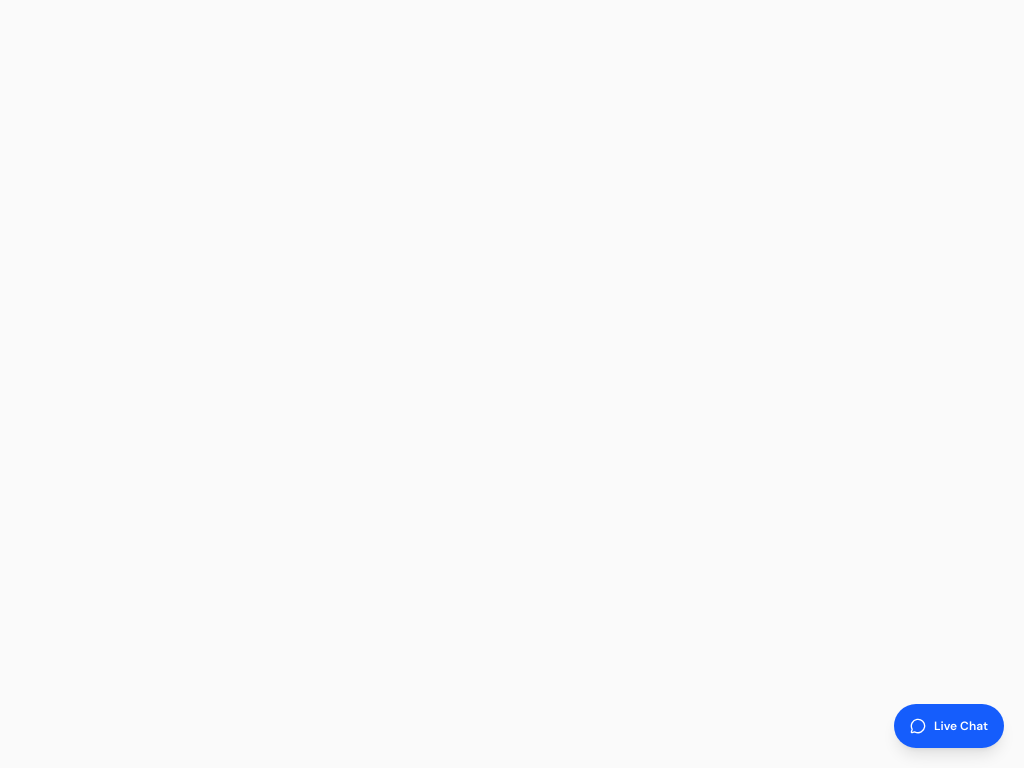
Portfolio Core Flows › opens live chat widget, initializes session, and sends visitor message
This screenshot has width=1024, height=768.
Click the button with aria-label "live support chat".
click(949, 726)  # box [894,704,1004,748]
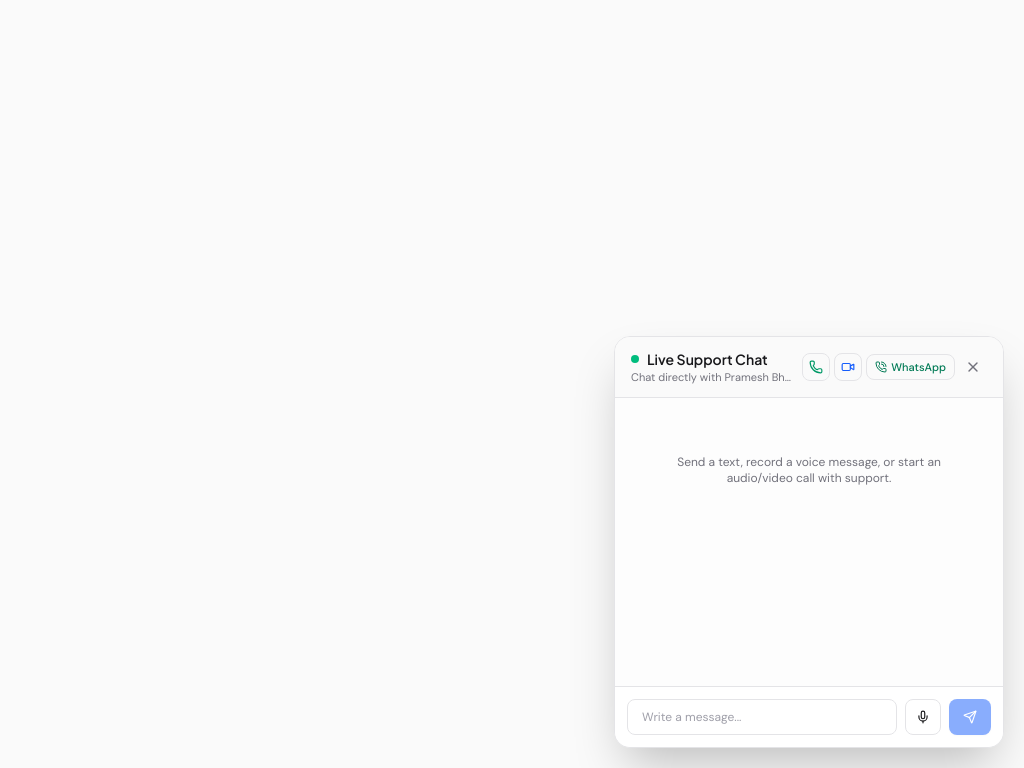
Expected: the dialog "Live Support Chat" is shown, [614,336,1004,748]
Type "Hello, I need help with PDF books" into the field with placeholder "Write a message...".
click(762, 717); type("Hello, I need help with PDF books")  # box [627,699,897,735]
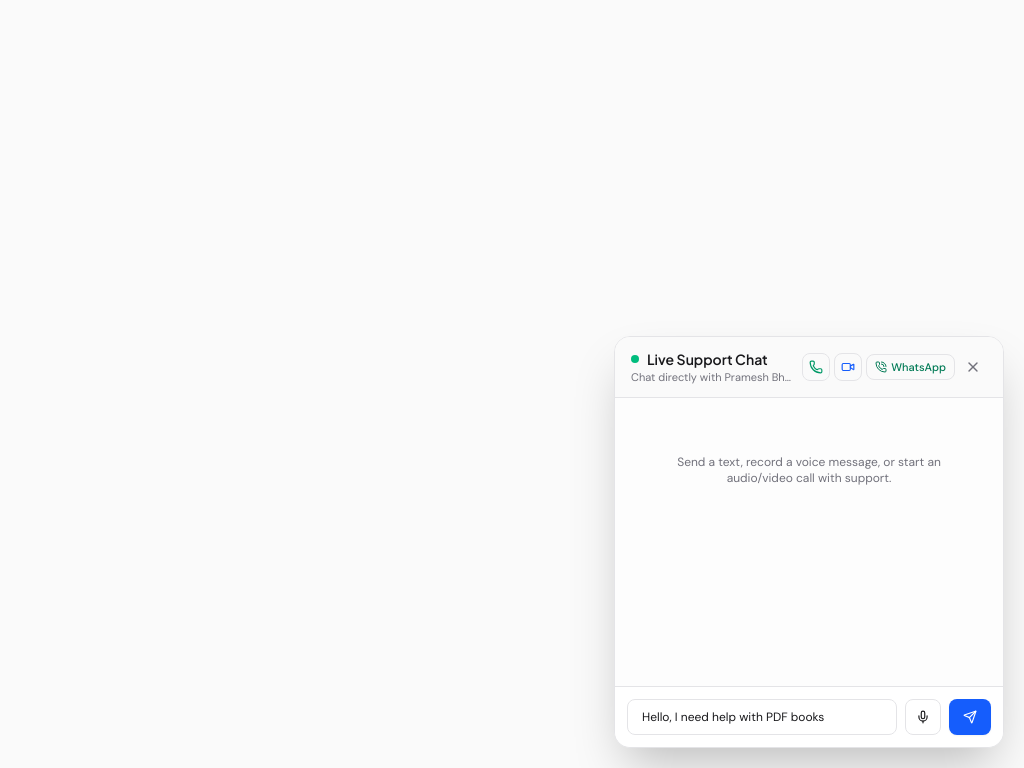
Click the button named "send chat message".
click(970, 717)  # box [949,699,991,735]
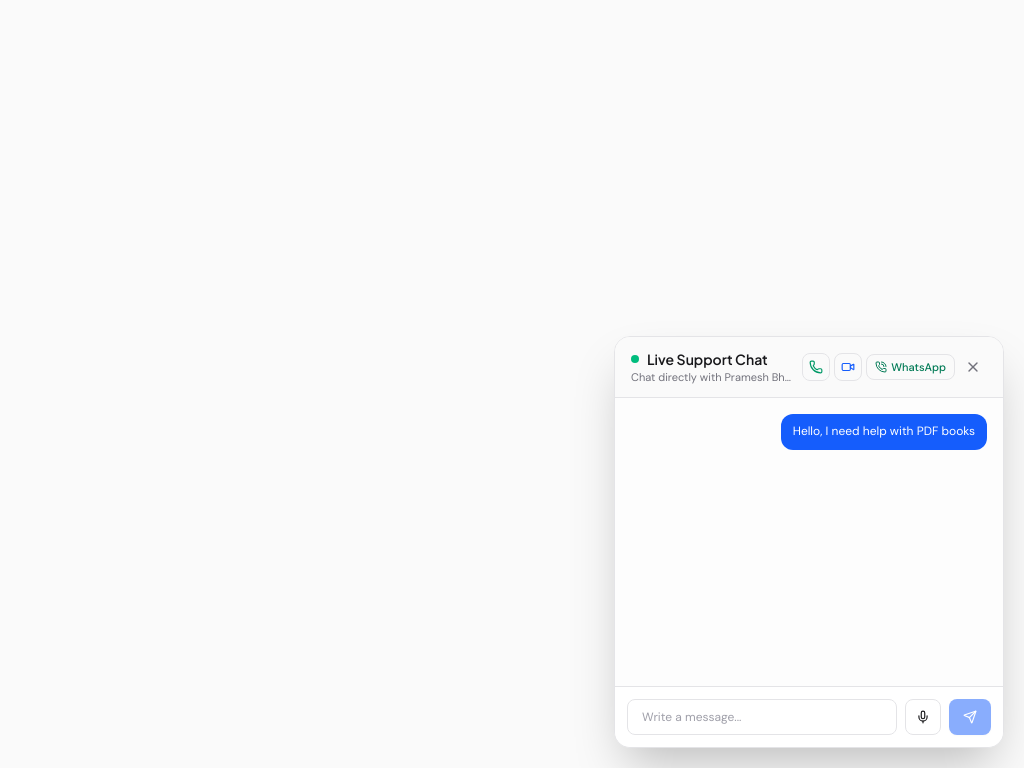
Expected: the text "Hello, I need help with PDF books" is shown, [793,422,975,442]
